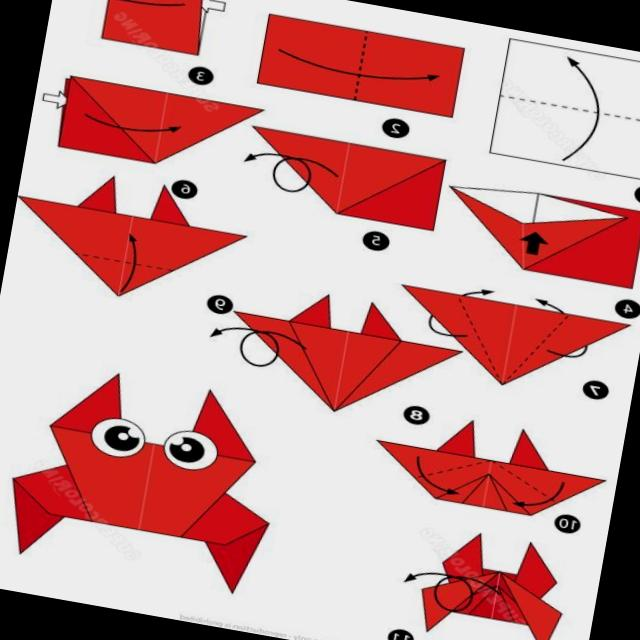arrow: (278, 49, 438, 81), (403, 572, 499, 615), (561, 57, 599, 160), (210, 327, 305, 367), (244, 152, 337, 192), (244, 152, 337, 176), (210, 327, 305, 348), (85, 114, 179, 132), (415, 456, 457, 495), (514, 482, 563, 507), (423, 313, 467, 340), (538, 344, 591, 362), (120, 235, 136, 292), (520, 232, 546, 255), (113, 0, 182, 7), (41, 91, 65, 108), (201, 0, 224, 12)
fold-line: (436, 286, 515, 386), (491, 310, 581, 383), (492, 88, 640, 130), (487, 296, 526, 394), (483, 458, 563, 505), (64, 248, 180, 276), (322, 134, 358, 222), (342, 22, 377, 110), (143, 86, 174, 172), (110, 210, 138, 300), (326, 327, 354, 416), (133, 442, 158, 538), (409, 456, 497, 482), (476, 456, 496, 514), (486, 568, 505, 624)
